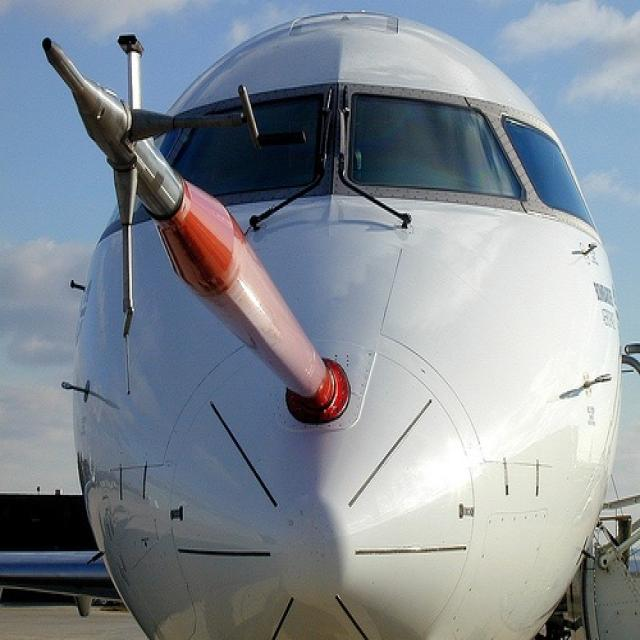aeroplane: (0, 11, 620, 638)
